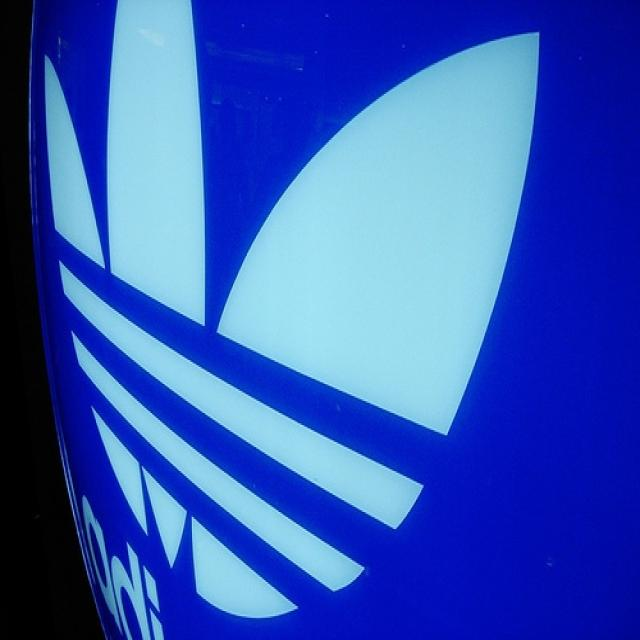adidas: (36, 3, 554, 639)
